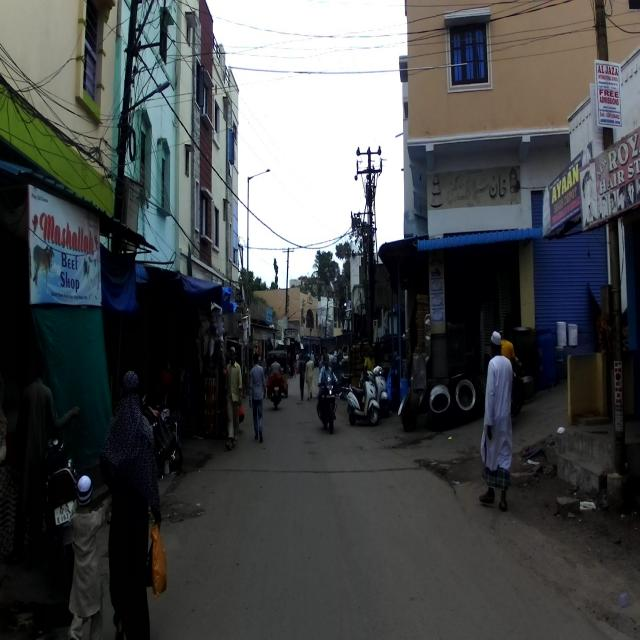motorcycle_bajaj: (316, 369, 340, 433)
scooter: (347, 365, 380, 427)
